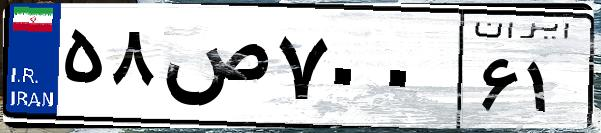0: (385, 28, 445, 110), (330, 28, 385, 110)
1: (525, 38, 570, 115)
5: (57, 26, 110, 100)
6: (475, 38, 525, 113)
7: (270, 28, 330, 110)
8: (110, 28, 158, 98)
ص: (158, 20, 270, 120)
